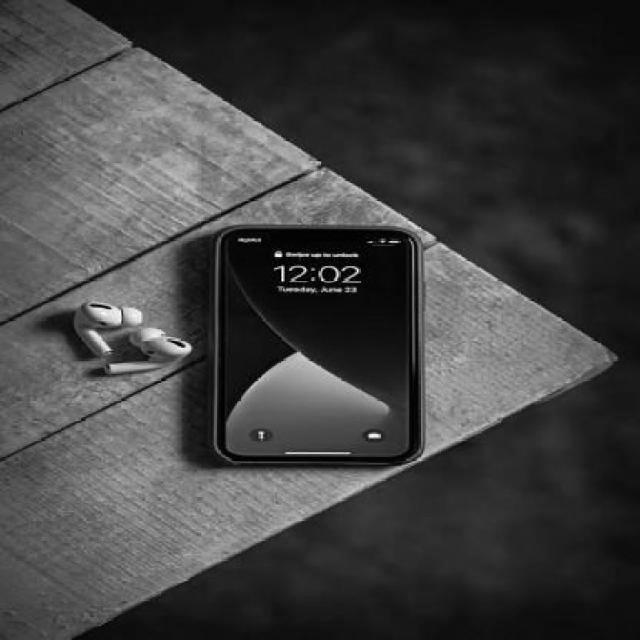fake: (214, 227, 418, 464)
